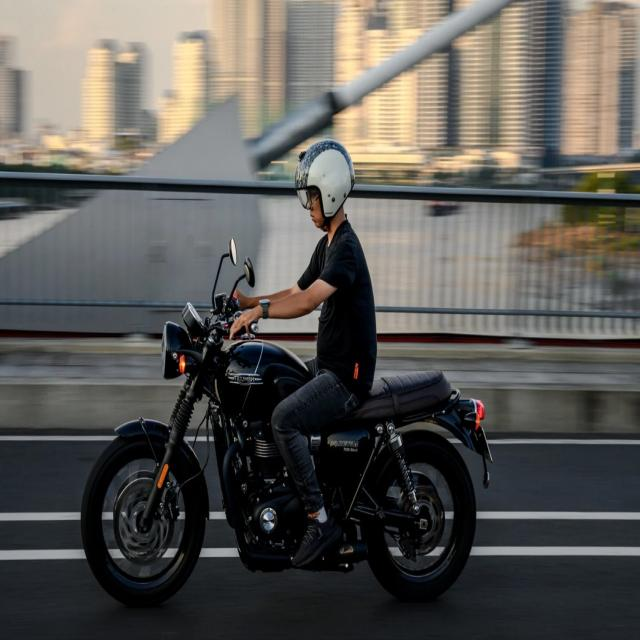Helmet: (291, 129, 357, 233)
